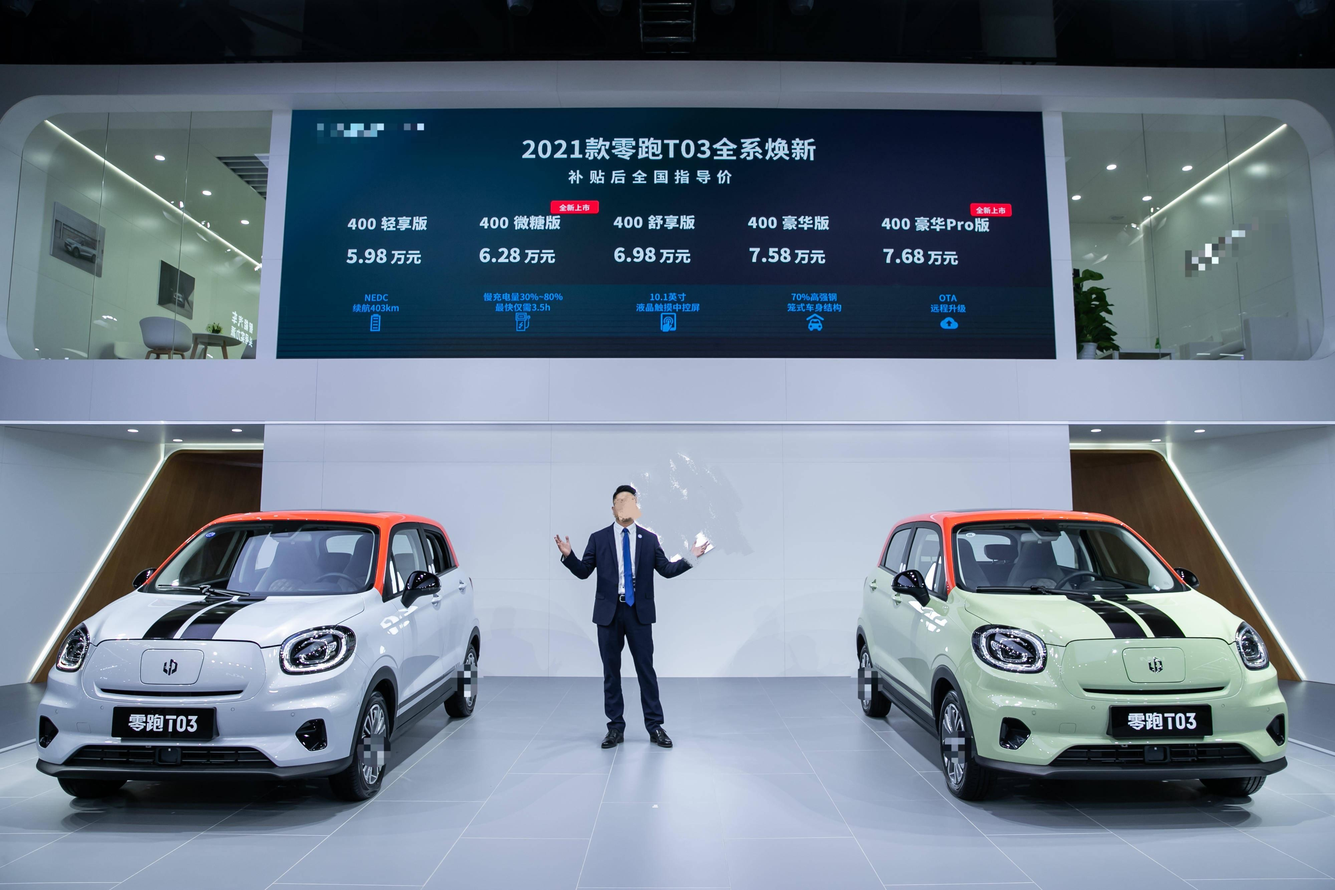LEAPMOTOR: (1147, 657, 1163, 675), (162, 658, 177, 676)
